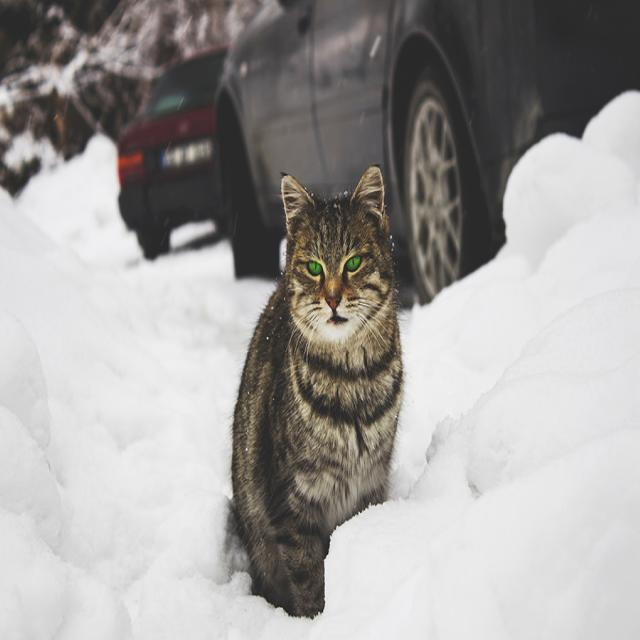cat: (231, 167, 402, 616)
